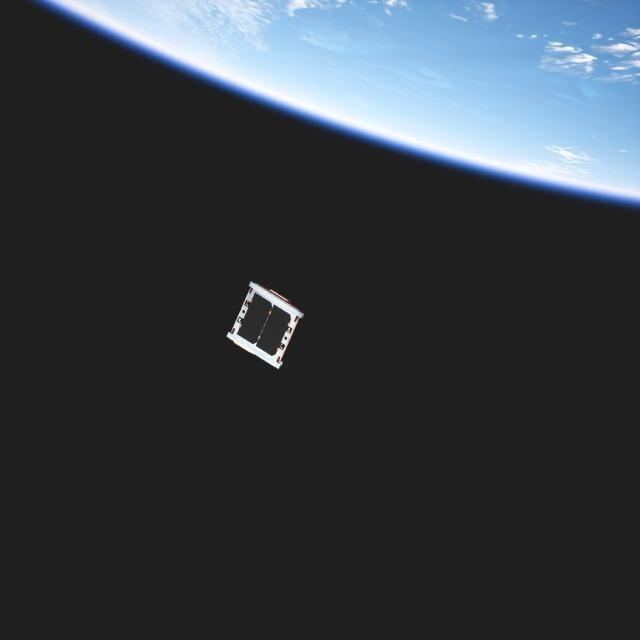satellite: (223, 279, 303, 373)
